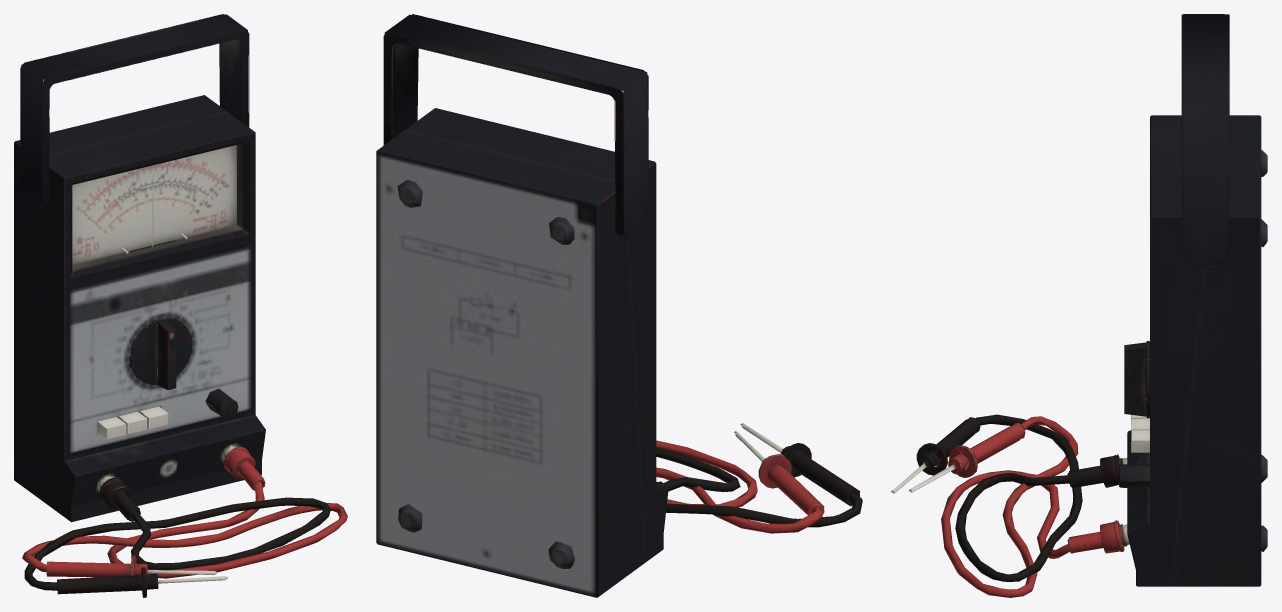
File: multimeter.glb
The picture shows the model from 3 angles, left to right: view 1: azimuth 30°, elevation 25°; view 2: azimuth 150°, elevation 25°; view 3: azimuth 270°, elevation 25°; orthographic projection. The views are drawn at different scales.
Parts seen in each view (by area): view 1: retro_multimeter_LOD0; view 2: retro_multimeter_LOD0; view 3: retro_multimeter_LOD0.
Part boxes in pixels (x1=…): retro_multimeter_LOD0: x1=14, y1=14, x2=347, y2=597; retro_multimeter_LOD0: x1=376, y1=14, x2=862, y2=597; retro_multimeter_LOD0: x1=891, y1=14, x2=1267, y2=597.
Bounding box in the file's own units: 0.2161 × 0.279 × 0.2027.
1 material, 1 textured.
